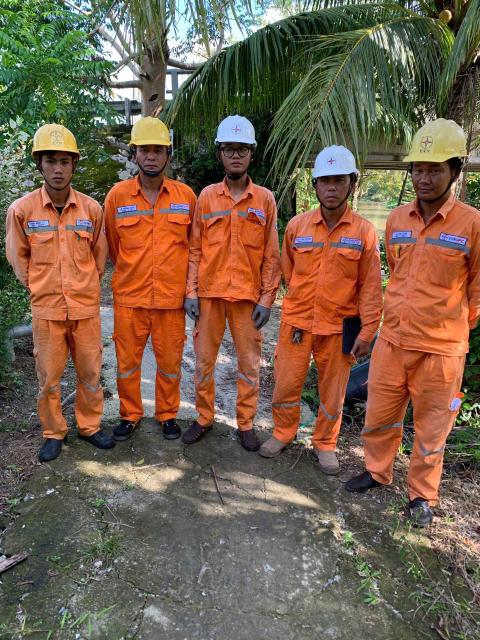gloves: (251, 293, 279, 332), (180, 289, 214, 321)
helmet: (407, 118, 471, 169), (22, 119, 84, 166), (310, 144, 360, 189), (217, 117, 259, 155), (128, 116, 182, 145)
shoes: (33, 419, 70, 464), (403, 486, 433, 540), (312, 439, 344, 487), (77, 422, 117, 456), (228, 415, 261, 456), (348, 463, 386, 498), (112, 406, 143, 445), (263, 428, 285, 464), (161, 409, 182, 443), (183, 413, 205, 445)
